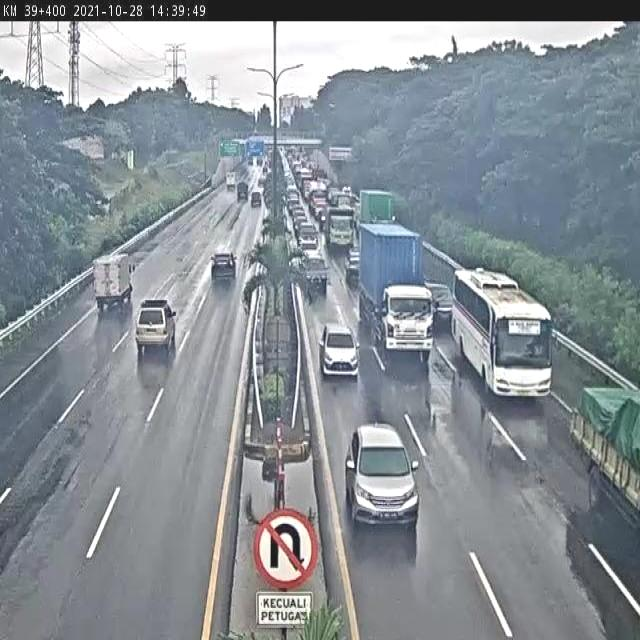Bus: (453, 261, 552, 402)
Car: (344, 420, 419, 531), (318, 326, 360, 380), (136, 299, 177, 348), (426, 280, 457, 327), (300, 256, 330, 296), (210, 247, 239, 281), (344, 252, 362, 282), (252, 190, 262, 207)
Truck: (570, 384, 640, 527), (361, 223, 434, 357), (92, 250, 136, 310), (360, 186, 396, 227), (325, 206, 353, 251), (235, 179, 249, 202), (223, 168, 239, 188)
